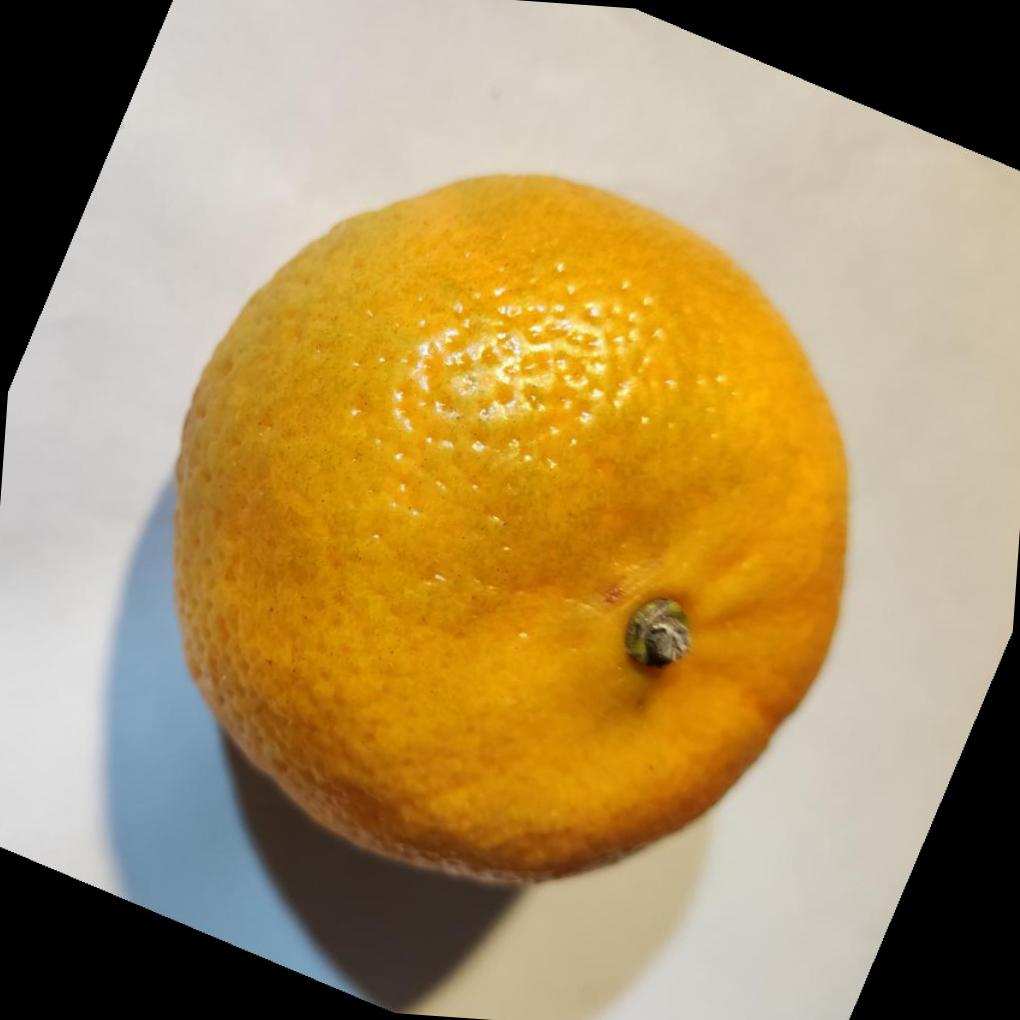FreshGuava: (171, 166, 852, 884)
